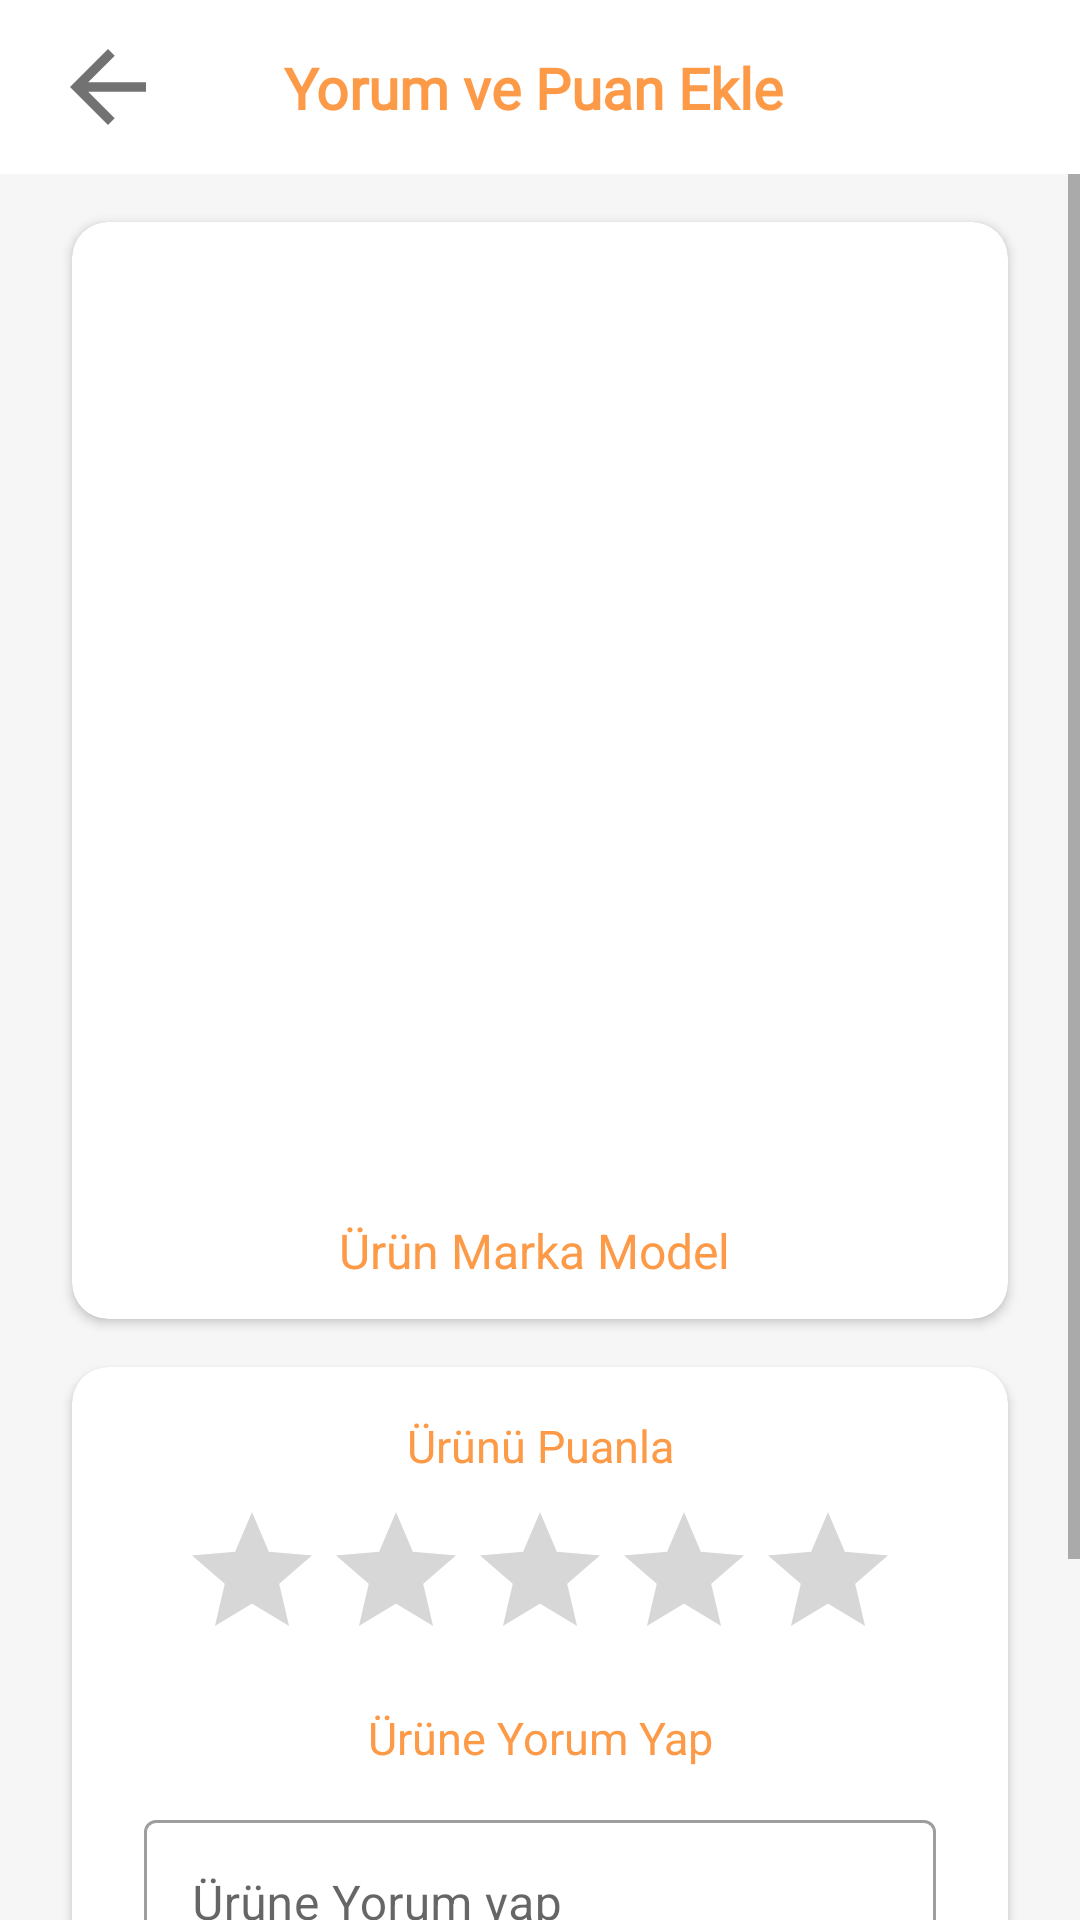

Screen size 1080 × 1920. Icon name, then its center in pixels as [x,y]:
arrow back: [108,87]
